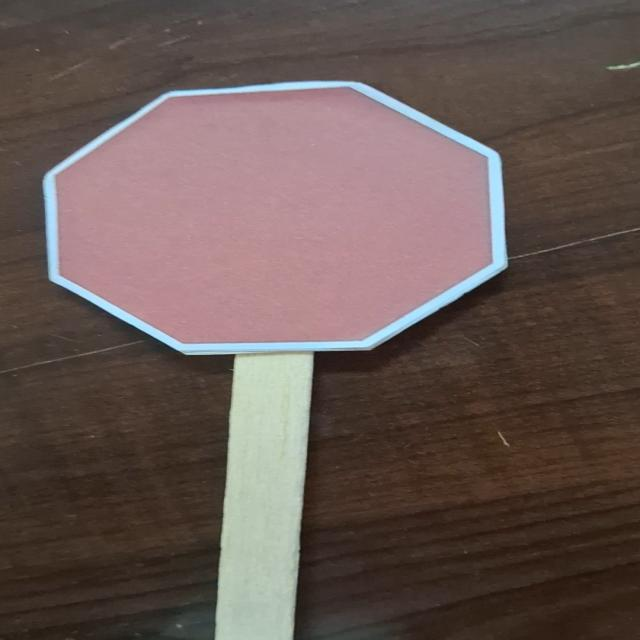Stop: (30, 72, 516, 357)
